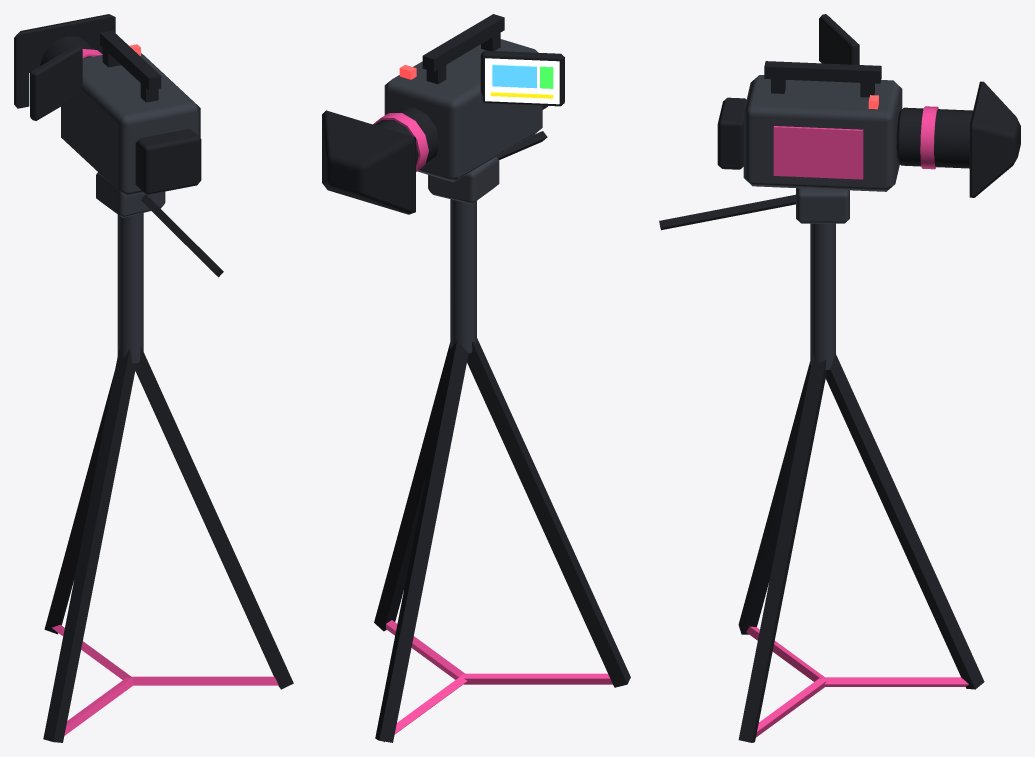
File: station_buffer_ausstattung_1_2.glb
The picture shows the model from 3 angles, left to right: view 1: azimuth 30°, elevation 25°; view 2: azimuth 150°, elevation 25°; view 3: azimuth 270°, elevation 25°; orthographic projection. The views are drawn at different scales.
Parts seen in each view (by area): view 1: station_buffer_ausstattung_1_2; view 2: station_buffer_ausstattung_1_2; view 3: station_buffer_ausstattung_1_2.
Boxes of the visible parts, box(x1,y1,x2,y2) form: station_buffer_ausstattung_1_2: box(14, 14, 293, 742); station_buffer_ausstattung_1_2: box(322, 14, 630, 742); station_buffer_ausstattung_1_2: box(659, 14, 1020, 742).
Size of the model in its own units: 0.6256 by 1.55 by 0.8066.
